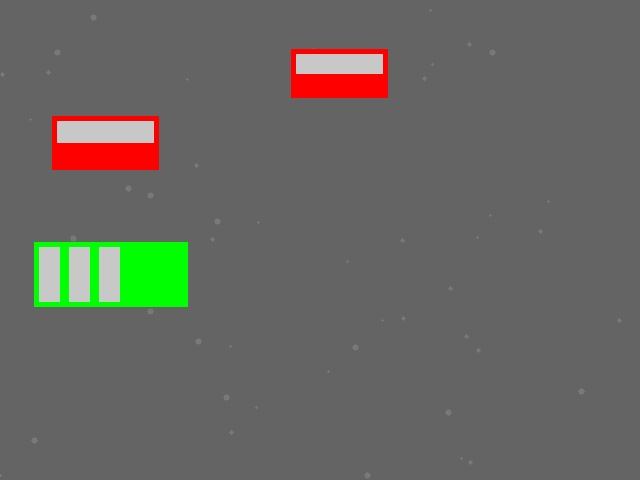bus: (34, 242, 187, 306)
car: (52, 116, 158, 169), (291, 49, 387, 97)
